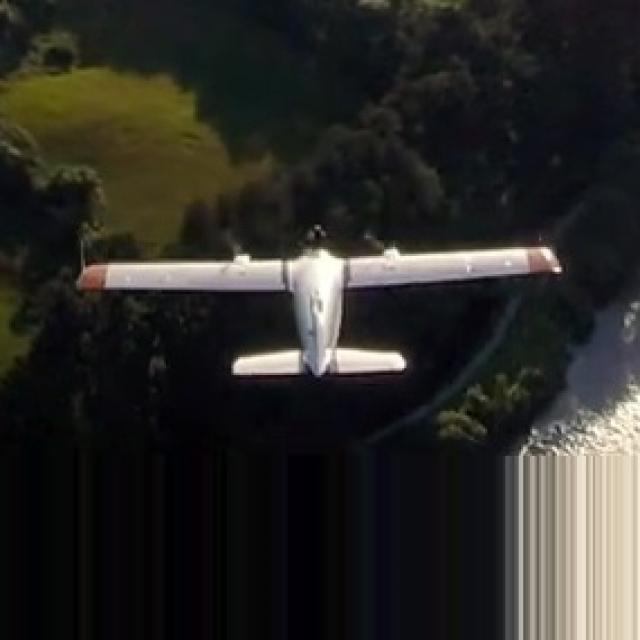iha: (69, 233, 572, 408)
